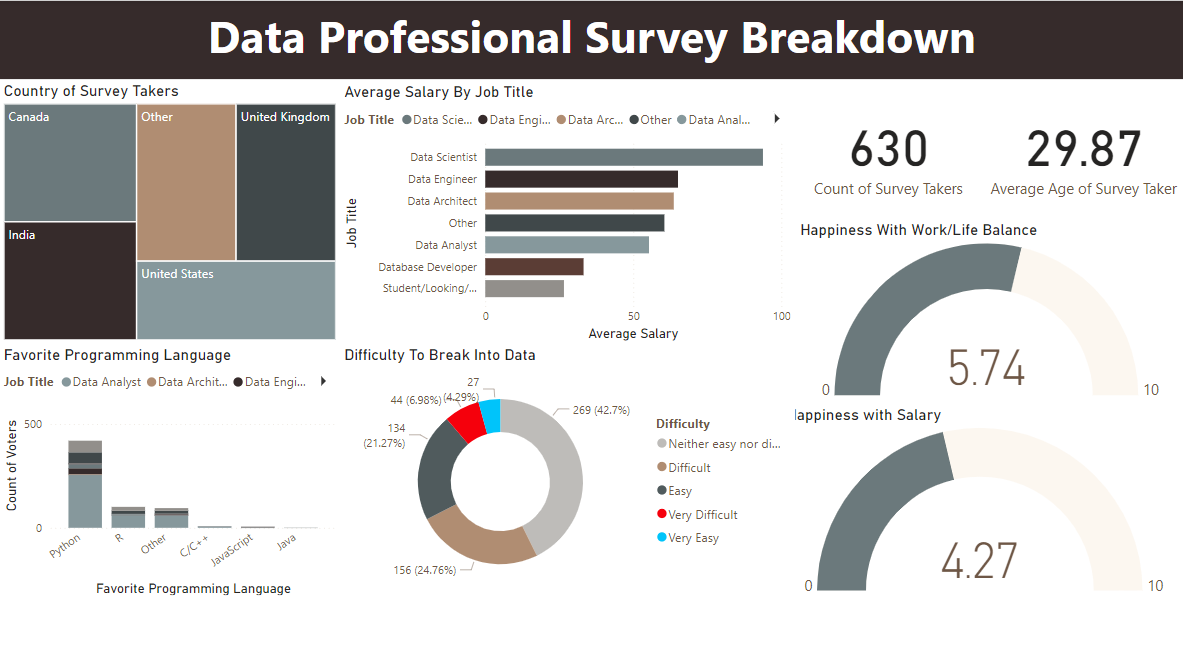

The page's visual inventory and layout, read from the dashboard file:
{"tool":"powerbi","page":{"name":"Page 1","canvas":[1280,720],"ordinal":0},"visuals":[{"type":"textbox","box":[0,0,1279.8,85.8],"z":0},{"type":"card","fields":{"Values":["Count(Data Professional Survey.Unique ID)"]},"box":[860,88.3,200,150],"z":1000},{"type":"card","fields":{"Values":["Avg(Data Professional Survey.Q10 - Current Age)"]},"box":[1060,88.3,220,150],"z":2000},{"type":"barChart","title":"Average Salary By Job Title","fields":{"Category":["Data Professional Survey.Q1 - Which Title Best Fits your Current Role?.1"],"Y":["Avg(Data Professional Survey.Average Salary)"],"Series":["Data Professional Survey.Q1 - Which Title Best Fits your Current Role?.1"]},"box":[368.3,88.3,491.7,283.3],"z":3000},{"type":"columnChart","title":"Favorite Programming Language","fields":{"Category":["Data Professional Survey.Q5 - Favorite Programming Language.1"],"Y":["CountNonNull(Data Professional Survey.Unique ID)"],"Series":["Data Professional Survey.Q1 - Which Title Best Fits your Current Role?.1"]},"box":[0,371.7,368.3,275],"z":4000},{"type":"treemap","title":"Country of Survey Takers","fields":{"Group":["Data Professional Survey.Q11 - Which Country do you live in?.1"],"Values":["Count(Data Professional Survey.Q11 - Which Country do you live in?.1)"]},"box":[0,88,368,284],"z":5000},{"type":"gauge","title":"Happiness With Work/Life Balance","fields":{"Y":["Avg(Data Professional Survey.Q6 - How Happy are you in your Current Position with the following? (Work/Life Balance))"],"MinValue":["Min(Data Professional Survey.Q6 - How Happy are you in your Current Position with the following? (Work/Life Balance))"],"MaxValue":["Max(Data Professional Survey.Q6 - How Happy are you in your Current Position with the following? (Work/Life Balance))1"]},"box":[860,238.3,420,198.3],"z":6000},{"type":"gauge","title":"Happiness with Salary","fields":{"Y":["Avg(Data Professional Survey.Q6 - How Happy are you in your Current Position with the following? (Salary))"],"MinValue":["Min(Data Professional Survey.Q6 - How Happy are you in your Current Position with the following? (Salary))"],"MaxValue":["Max(Data Professional Survey.Q6 - How Happy are you in your Current Position with the following? (Salary))"]},"box":[845,436.7,435,210],"z":7000},{"type":"donutChart","title":"Difficulty To Break Into Data","fields":{"Y":["CountNonNull(Data Professional Survey.Q7 - How difficult was it for you to break into Data?)"],"Category":["Data Professional Survey.Q7 - How difficult was it for you to break into Data?"]},"box":[368.3,371.7,491.7,275],"z":8000}]}

Visuals, with their boxes in screenshot pixels (x1, y1, x2, y2), scaled from the page's 1280x720 canvas onto the 1183x667 screenshot:
textbox: x1=0, y1=0, x2=1182, y2=79
card - Count(Data Professional Survey.Unique ID): x1=795, y1=82, x2=980, y2=221
card - Avg(Data Professional Survey.Q10 - Current Age): x1=980, y1=82, x2=1182, y2=221
"Average Salary By Job Title" barChart: x1=340, y1=82, x2=795, y2=344
"Favorite Programming Language" columnChart: x1=0, y1=344, x2=340, y2=599
"Country of Survey Takers" treemap: x1=0, y1=82, x2=340, y2=345
"Happiness With Work/Life Balance" gauge: x1=795, y1=221, x2=1182, y2=404
"Happiness with Salary" gauge: x1=781, y1=405, x2=1182, y2=599
"Difficulty To Break Into Data" donutChart: x1=340, y1=344, x2=795, y2=599
